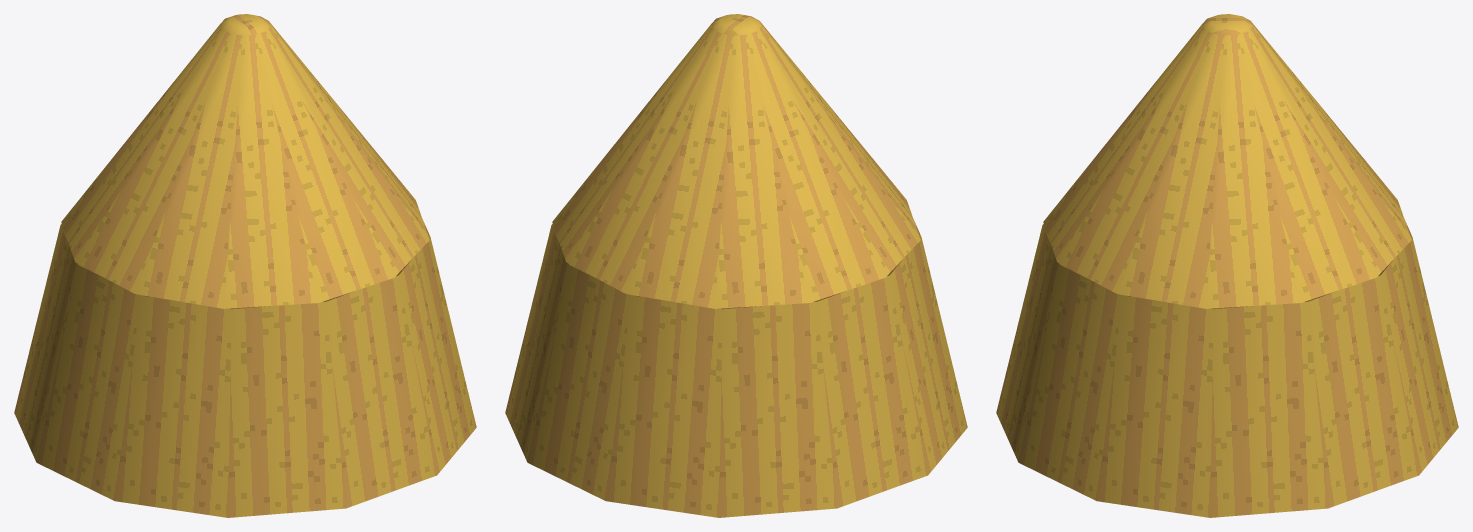
Rendered from haystack_1.glb.
3 renders of one model, left to right at view 1: azimuth 30°, elevation 25°; view 2: azimuth 150°, elevation 25°; view 3: azimuth 270°, elevation 25°, orthographic.
Parts seen in each view (by area): view 1: haystack_2; view 2: haystack_2; view 3: haystack_2.
Part boxes in pixels (x1,y1,x2,y2): haystack_2: (14, 14, 476, 517); haystack_2: (505, 14, 967, 517); haystack_2: (996, 14, 1458, 517).
Size of the model in its own units: 2.52 by 2.4 by 2.52.
Materials: 1 (1 with a texture image).
